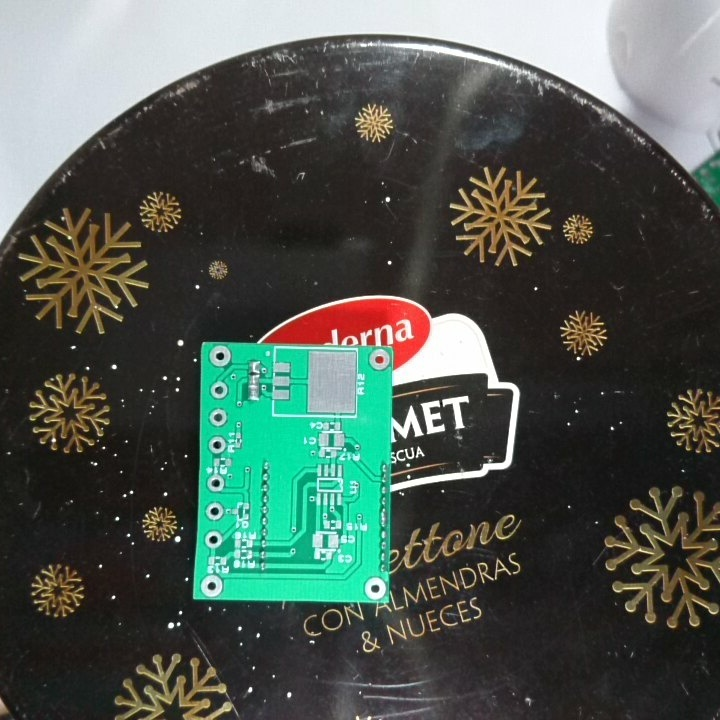F: (199, 572, 226, 599), (362, 575, 387, 602), (366, 346, 391, 372), (207, 344, 233, 369), (202, 529, 225, 552), (208, 379, 229, 403), (207, 406, 229, 428), (204, 500, 225, 523), (207, 434, 228, 455), (205, 472, 225, 493)
P: (246, 372, 262, 405), (377, 506, 389, 530)
